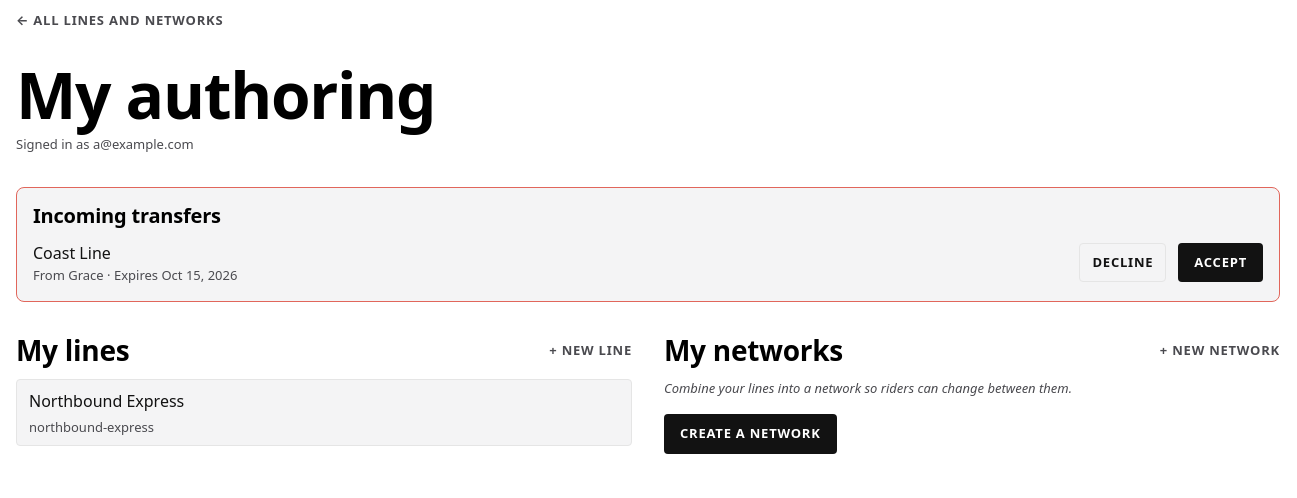
AuthoringView › transfers › explains, naming the networks, when the sender still has the line in them
Click the button with test id "accept-handover" at (1221, 262), box x1=1178 y1=243 x2=1263 y2=282
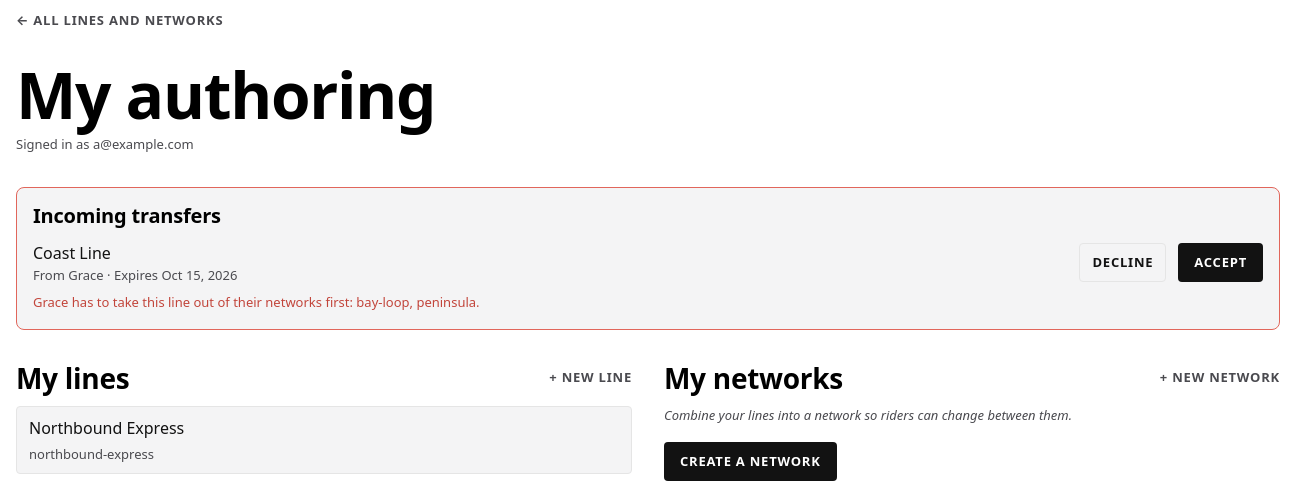
Check: the message with test id "handover-refusal" reads "Grace has to take this line out of their networks first: bay-loop, peninsula.", box x1=33 y1=293 x2=480 y2=311
